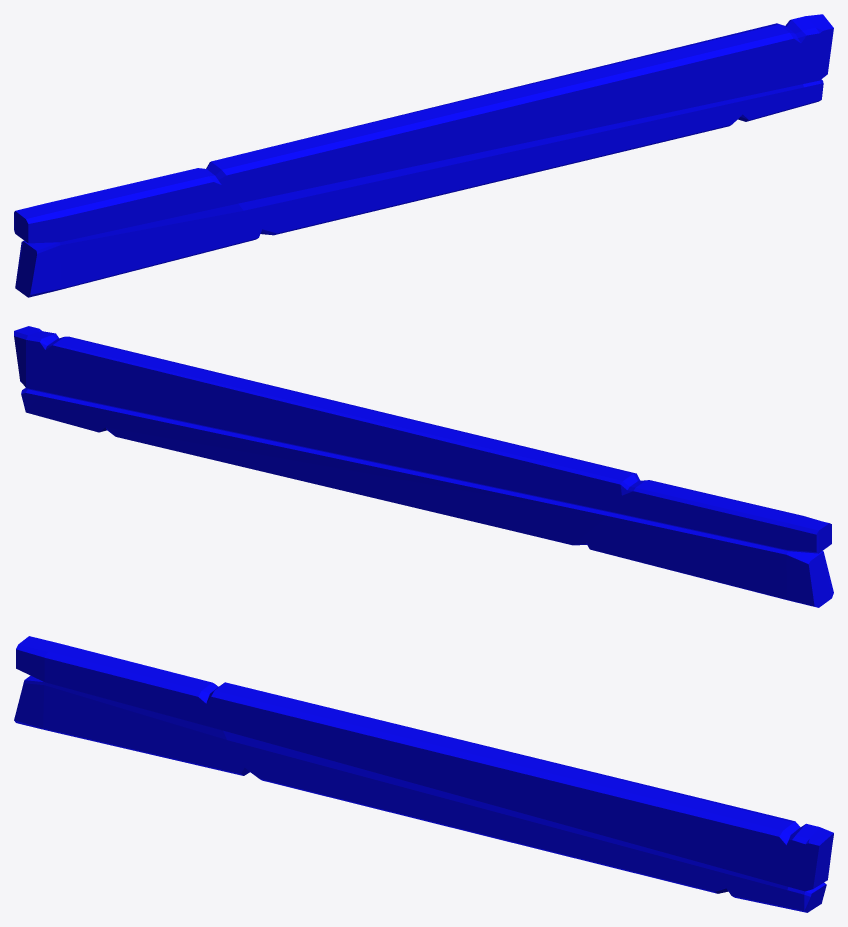
The model's file is CleaningRoom_WoodPlank.fbx.
3 renders of one model, top to bottom at view 1: azimuth 30°, elevation 25°; view 2: azimuth 150°, elevation 25°; view 3: azimuth 330°, elevation 25°, orthographic.
Parts seen in each view (by area): view 1: Wood_Plank; view 2: Wood_Plank; view 3: Wood_Plank.
Part boxes in pixels (x1,y1,x2,y2): Wood_Plank: [14, 14, 833, 297]; Wood_Plank: [14, 326, 833, 607]; Wood_Plank: [14, 636, 833, 912].
Size of the model in its own units: 890 by 83.79 by 35.23.
